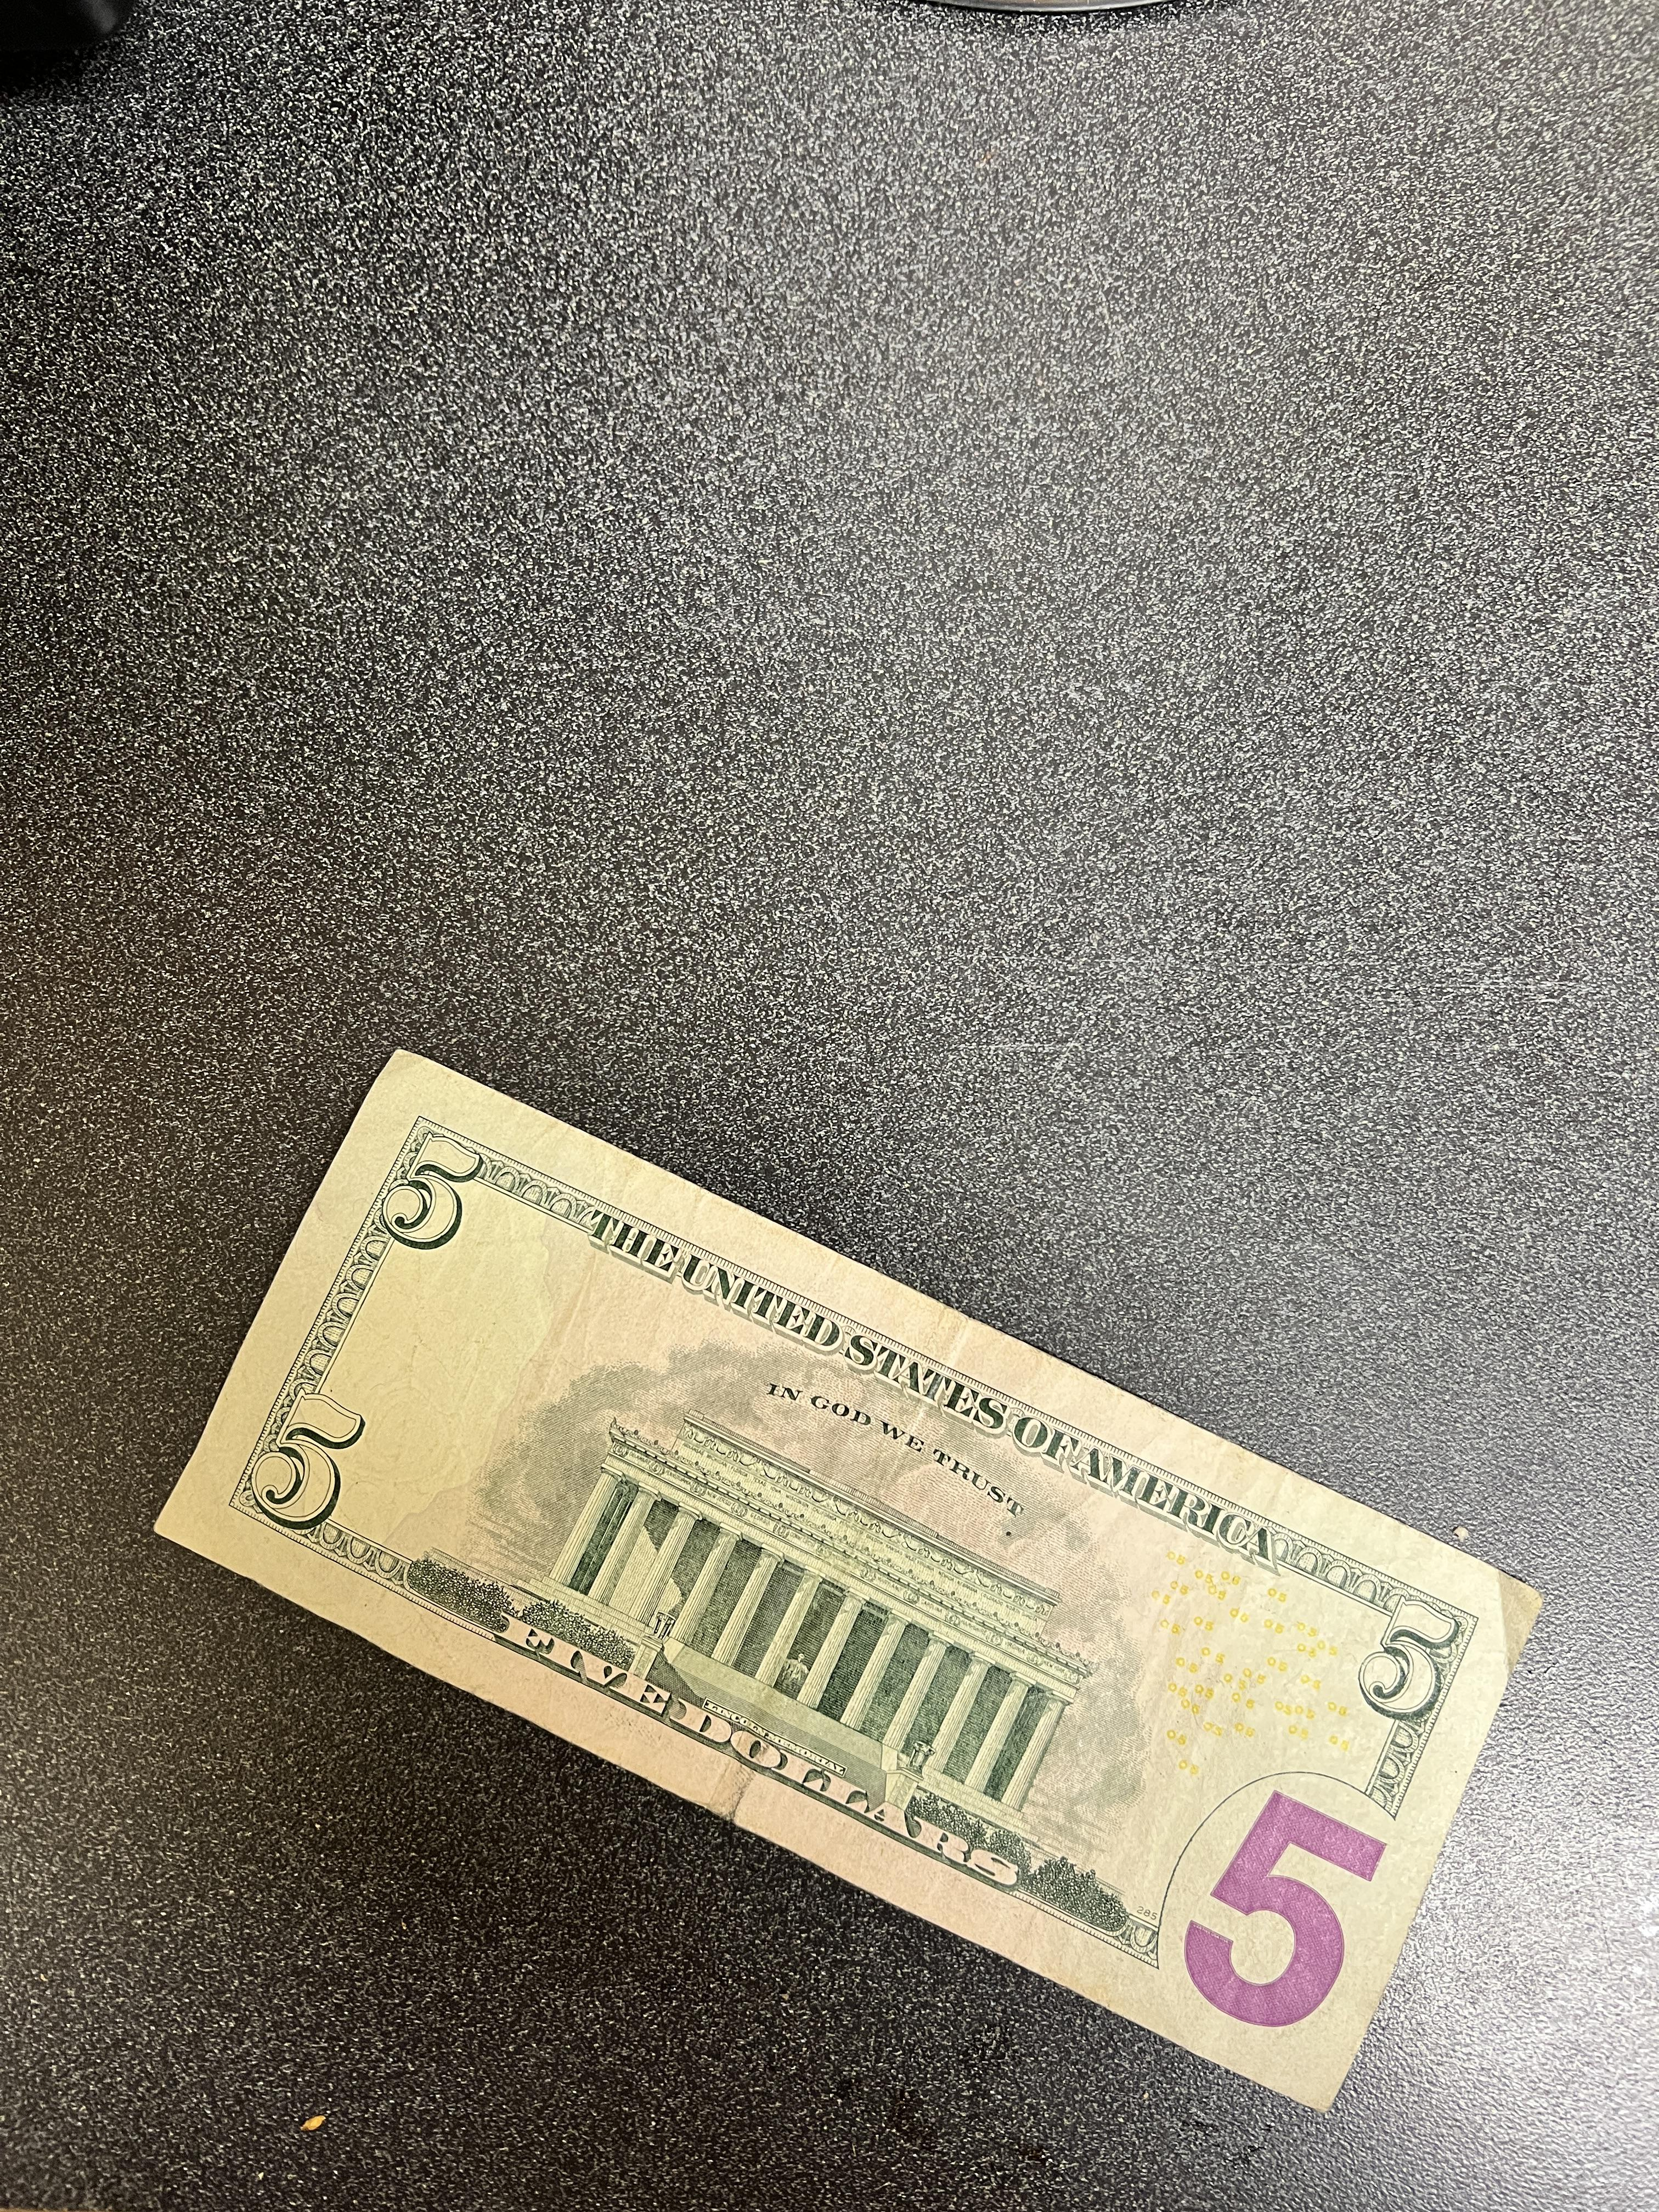FiveBill: (157, 1040, 1551, 2137)
